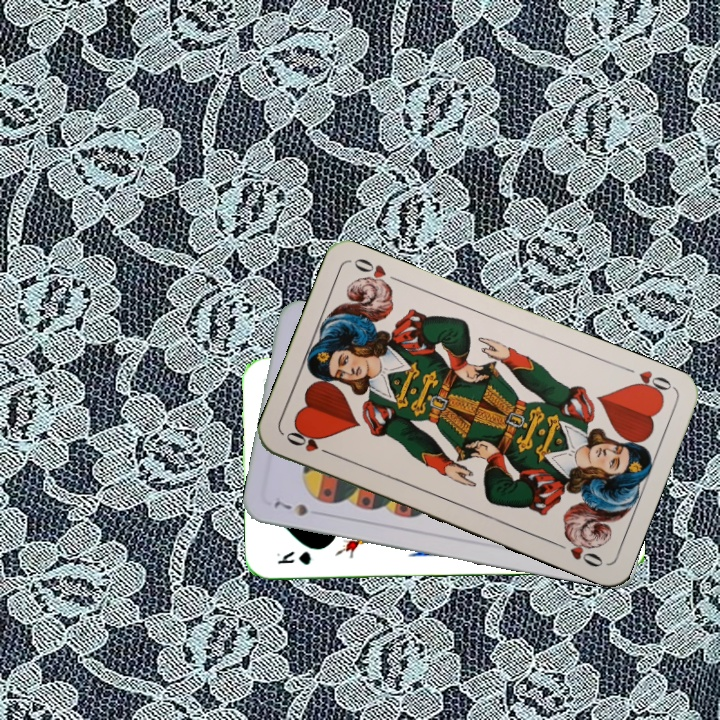GK: (273, 547, 314, 567)
HO: (281, 427, 337, 459), (626, 366, 675, 401)
S7: (269, 495, 311, 519)
